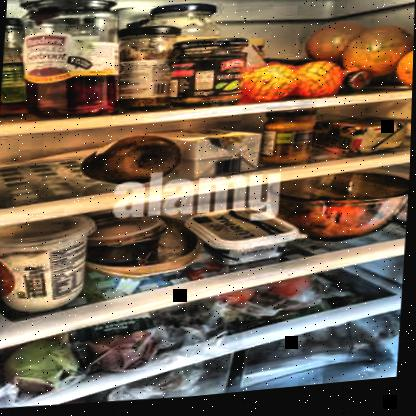apple: (2, 337, 82, 394)
butter: (315, 122, 407, 165)
cream_cheese: (188, 207, 298, 273)
orange: (348, 32, 412, 86), (309, 28, 360, 68), (293, 64, 343, 104), (245, 69, 294, 106), (395, 52, 413, 97)
yoghurt: (0, 221, 95, 317)
